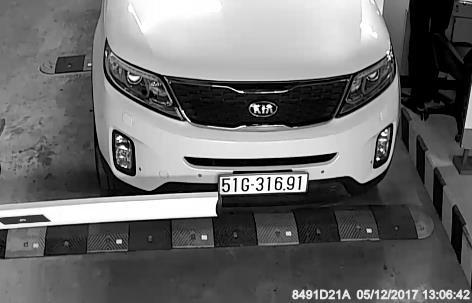License-plate: (217, 165, 316, 207)
